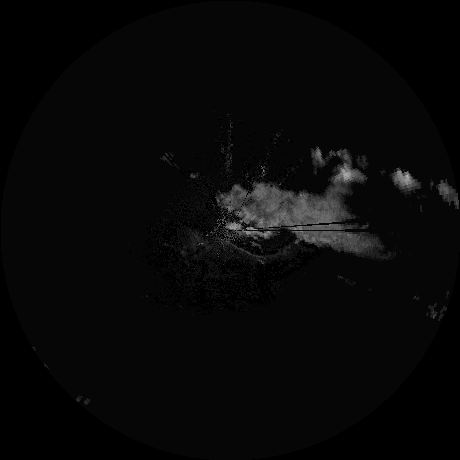frontgust: (216, 236, 297, 262)
